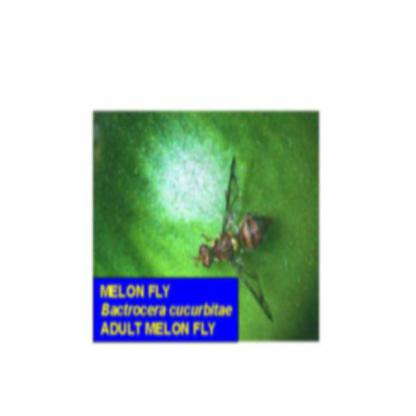fruit fly: (196, 161, 276, 321)
